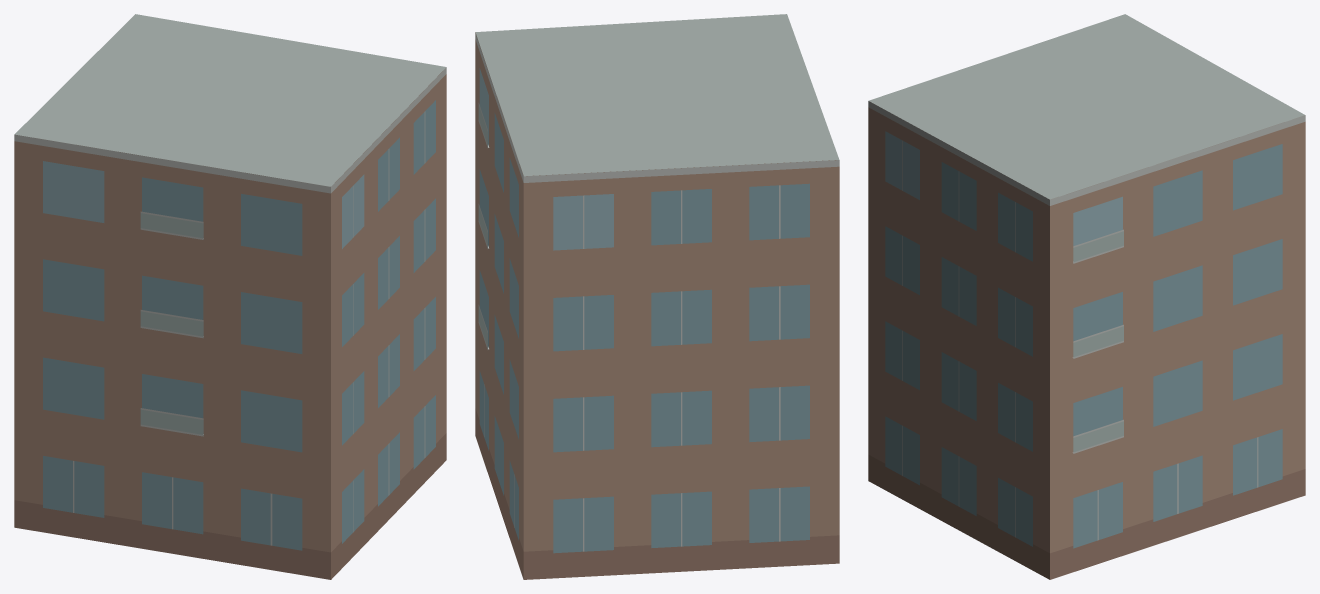
File: survey-upis-32904653.glb
The picture shows the model from 3 angles, left to right: view 1: azimuth 30°, elevation 25°; view 2: azimuth 150°, elevation 25°; view 3: azimuth 270°, elevation 25°; orthographic projection. The views are drawn at different scales.
Visible parts, largest first — view 1: survey-upis-32904653.tmp; view 2: survey-upis-32904653.tmp; view 3: survey-upis-32904653.tmp.
Part boxes in pixels (box(x1,y1,x2,y2)): survey-upis-32904653.tmp: box(14, 14, 446, 579); survey-upis-32904653.tmp: box(475, 14, 839, 579); survey-upis-32904653.tmp: box(868, 14, 1305, 579).
Bounding box in the file's own units: 15.09 × 14.4 × 15.02.
